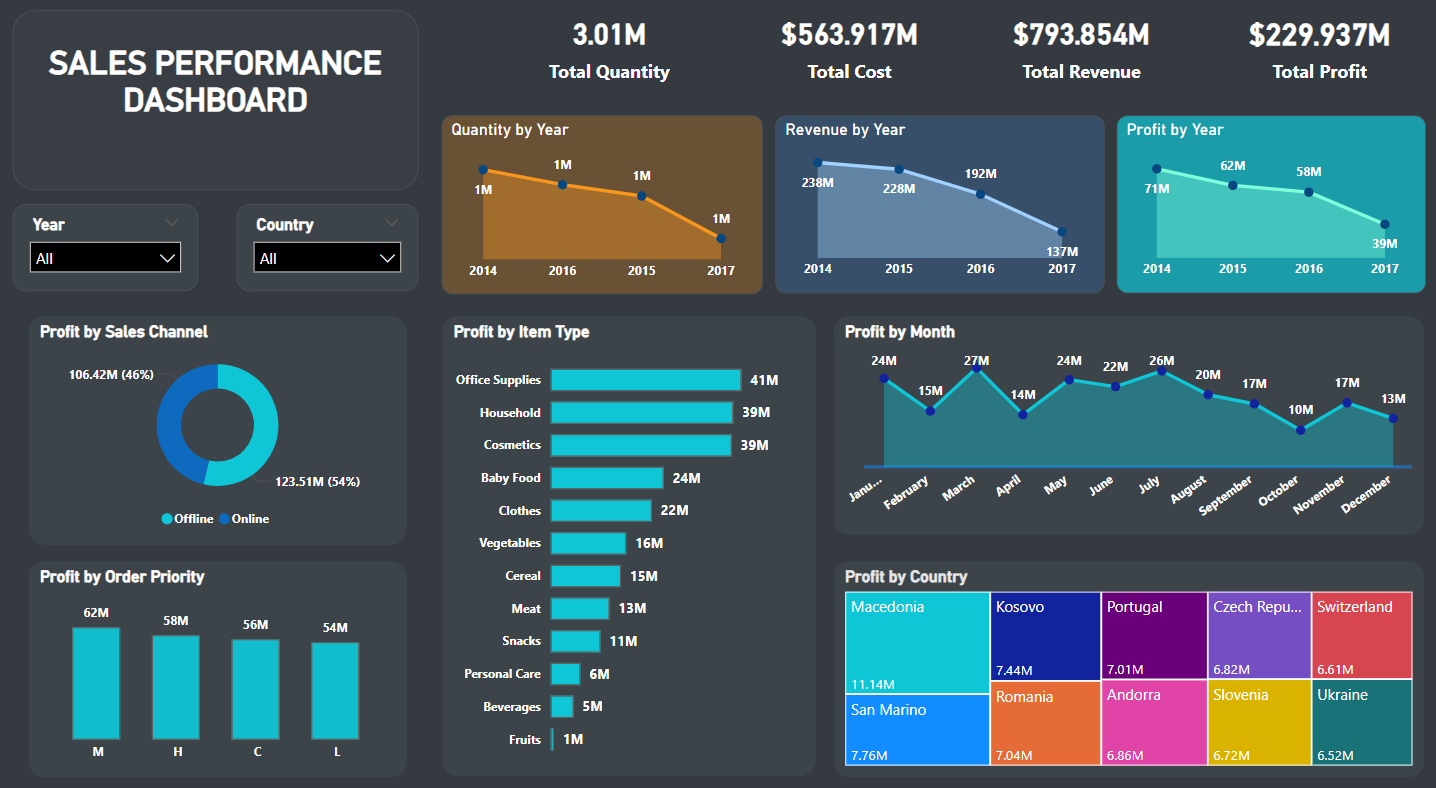

Layout of this report page (visuals, bound fields, positions):
{"tool":"powerbi","page":{"name":"SALES PERFORMANCE DASHBOARD","canvas":[1280,720],"ordinal":0},"visuals":[{"type":"barChart","title":"Profit by Item Type","fields":{"Category":["Europe Sales Records.Item Type"],"Y":["Sum(Europe Sales Records.Total Profit)"]},"box":[16,288,336,416],"z":0},{"type":"columnChart","title":"Profit by Order Priority","fields":{"Category":["Europe Sales Records.Order Priority"],"Y":["Sum(Europe Sales Records.Total Pro)"]},"box":[960,496,304,208],"z":3000},{"type":"donutChart","title":"Profit by Sales Channel","fields":{"Y":["Sum(Europe Sales Records.Total Profit)"],"Category":["Europe Sales Records.Sales Channel"]},"box":[960,288,304,192],"z":4000},{"type":"textbox","box":[16,16,336,256],"z":5000},{"type":"lineChart","title":"Profit by Month","fields":{"Category":["Europe Sales Records.Order Date.Variation.Date Hierarchy.Month"],"Y":["Sum(Europe Sales Records.Total Pro)"]},"box":[384,288,544,192],"z":6000},{"type":"areaChart","title":"Profit by Year","fields":{"Category":["Europe Sales Records.Year"],"Y":["Sum(Europe Sales Records.Total Profit)"]},"box":[992,112,272,160],"z":7000},{"type":"areaChart","title":"Revenue by Year","fields":{"Category":["Europe Sales Records.Year"],"Y":["Sum(Europe Sales Records.Total Revenue)"]},"box":[688,112,288,160],"z":8000},{"type":"areaChart","title":"Quantity by Year","fields":{"Category":["Europe Sales Records.Year"],"Y":["Sum(Europe Sales Records.Quantity)"]},"box":[384,112,288,160],"z":9000},{"type":"card","title":"Total Profit by Year","fields":{"Values":["Europe Sales Records.TOTAL-PROFIT"]},"box":[1056,0,208,96],"z":10000},{"type":"card","title":"Total Profit by Year","fields":{"Values":["Europe Sales Records.REVENUE"]},"box":[832,0,208,96],"z":11000},{"type":"card","title":"Total Profit by Year","fields":{"Values":["Europe Sales Records.QUANTIITY"]},"box":[384,0,224,96],"z":12000},{"type":"card","title":"Total Profit by Year","fields":{"Values":["Europe Sales Records.COST"]},"box":[624,0,192,96],"z":13000},{"type":"treemap","title":"Profit by Country","fields":{"Values":["Sum(Europe Sales Records.Total Pro)"],"Group":["Europe Sales Records.Country"]},"box":[384,496,544,208],"z":14000}]}

Visuals, with their boxes in screenshot pixels (x1, y1, x2, y2), scaled from the page's 1280x720 canvas onto the 1436x788 screenshot:
"Profit by Item Type" barChart: region(18, 315, 395, 770)
"Profit by Order Priority" columnChart: region(1077, 543, 1418, 770)
"Profit by Sales Channel" donutChart: region(1077, 315, 1418, 525)
textbox: region(18, 18, 395, 298)
"Profit by Month" lineChart: region(431, 315, 1041, 525)
"Profit by Year" areaChart: region(1113, 123, 1418, 298)
"Revenue by Year" areaChart: region(772, 123, 1095, 298)
"Quantity by Year" areaChart: region(431, 123, 754, 298)
"Total Profit by Year" card: region(1185, 0, 1418, 105)
"Total Profit by Year" card: region(933, 0, 1167, 105)
"Total Profit by Year" card: region(431, 0, 682, 105)
"Total Profit by Year" card: region(700, 0, 915, 105)
"Profit by Country" treemap: region(431, 543, 1041, 770)
